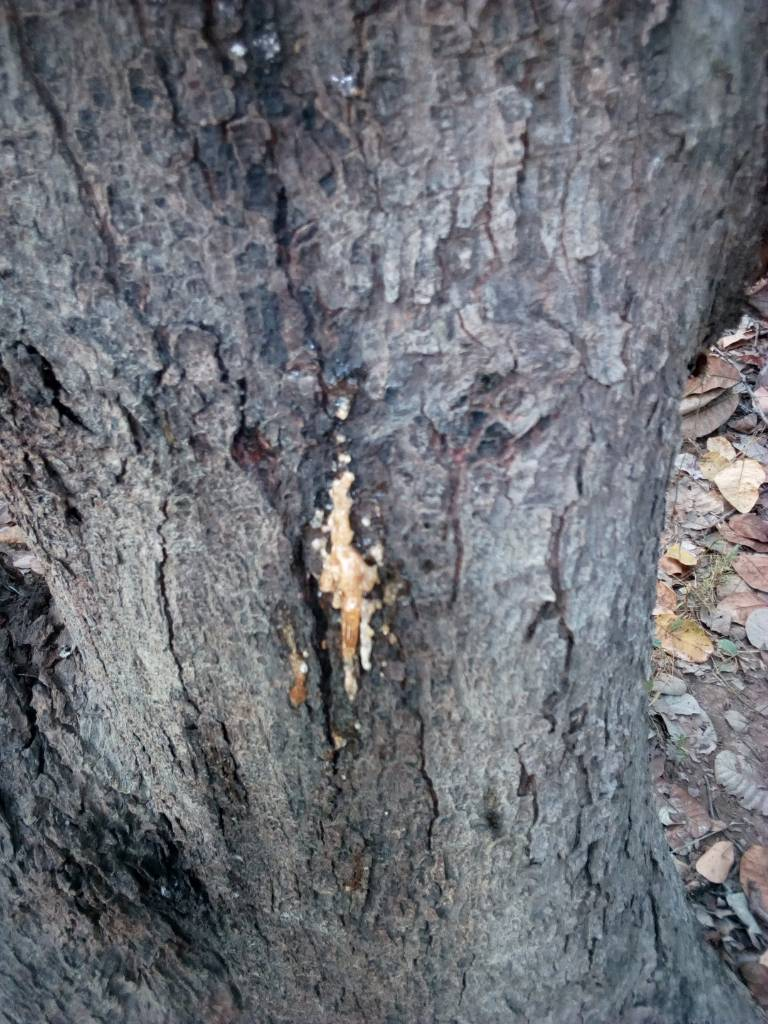Gommose: (282, 389, 396, 708)
